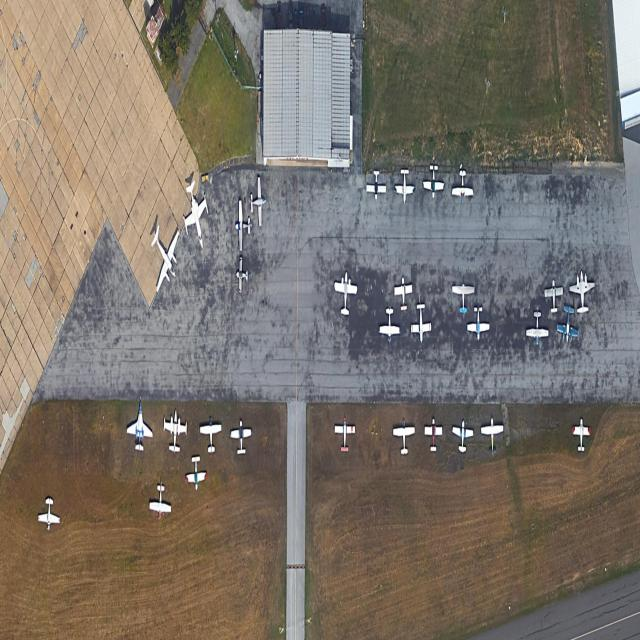plane: (143, 206, 185, 307), (179, 173, 214, 261), (125, 393, 155, 456), (162, 404, 188, 455), (333, 267, 358, 318), (569, 267, 595, 313), (556, 302, 580, 347), (235, 199, 253, 253), (451, 417, 475, 457), (149, 479, 172, 520), (410, 302, 432, 344), (200, 416, 222, 457), (451, 167, 474, 206), (481, 416, 504, 455), (185, 454, 208, 492), (422, 164, 445, 201), (378, 306, 401, 343), (393, 418, 416, 455), (38, 496, 61, 533), (250, 176, 266, 228), (230, 419, 252, 456), (526, 310, 549, 345), (467, 306, 490, 341), (334, 415, 355, 453), (393, 274, 413, 313), (394, 168, 416, 203), (452, 281, 475, 314), (572, 417, 591, 454), (544, 279, 563, 315), (424, 417, 443, 453), (366, 170, 386, 203), (236, 256, 248, 295)
